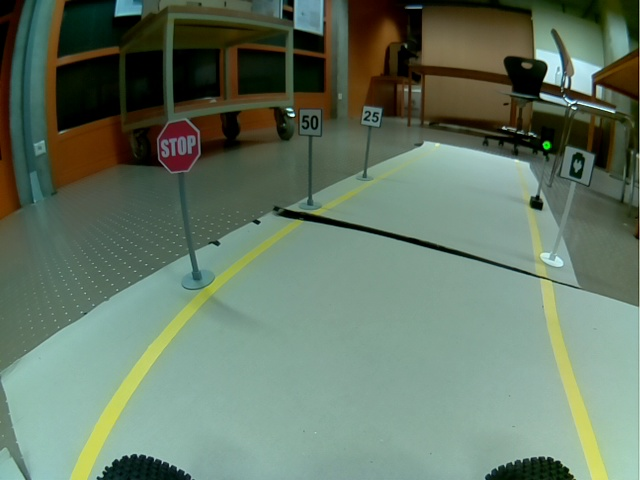battery: (560, 145, 596, 187)
speed25: (361, 106, 382, 128)
speed50: (298, 108, 323, 137)
stop: (156, 118, 201, 174)
trafficLightGreen: (539, 126, 554, 152)
